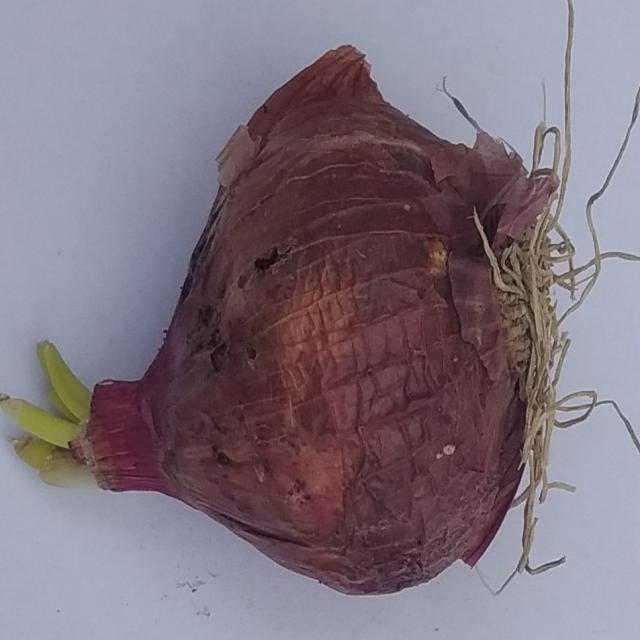onion: (2, 36, 564, 602)
